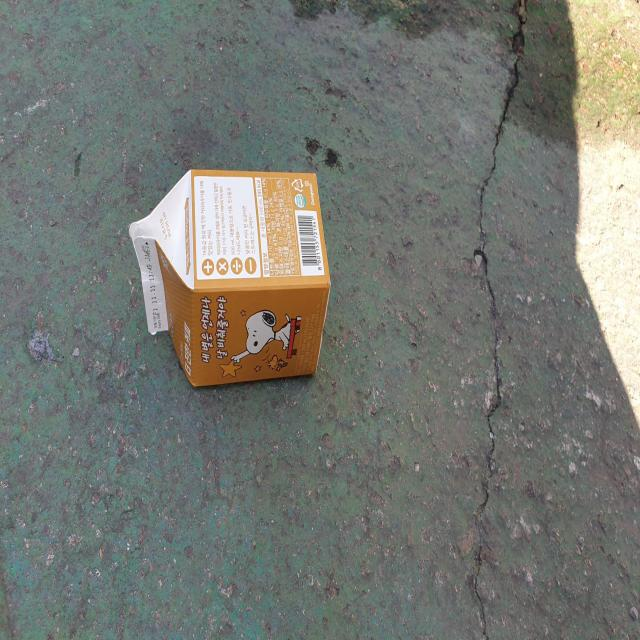paperpack: (128, 168, 331, 386)
